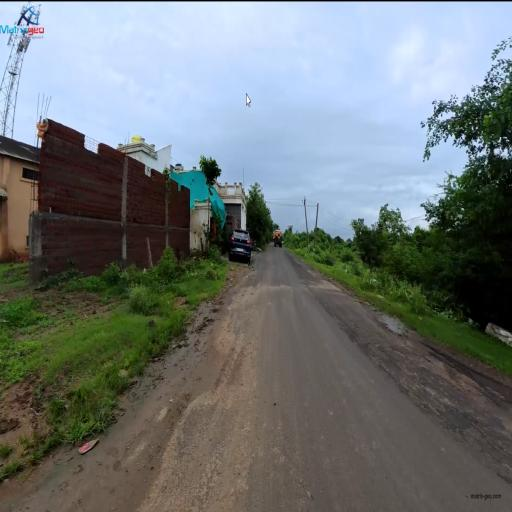ravelling: (178, 384, 243, 493), (410, 373, 468, 436)
